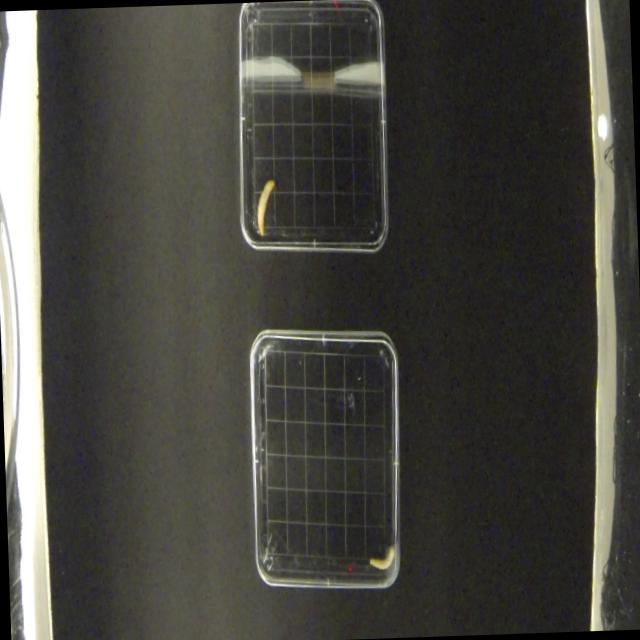larva: (254, 178, 277, 238), (368, 542, 396, 572)
